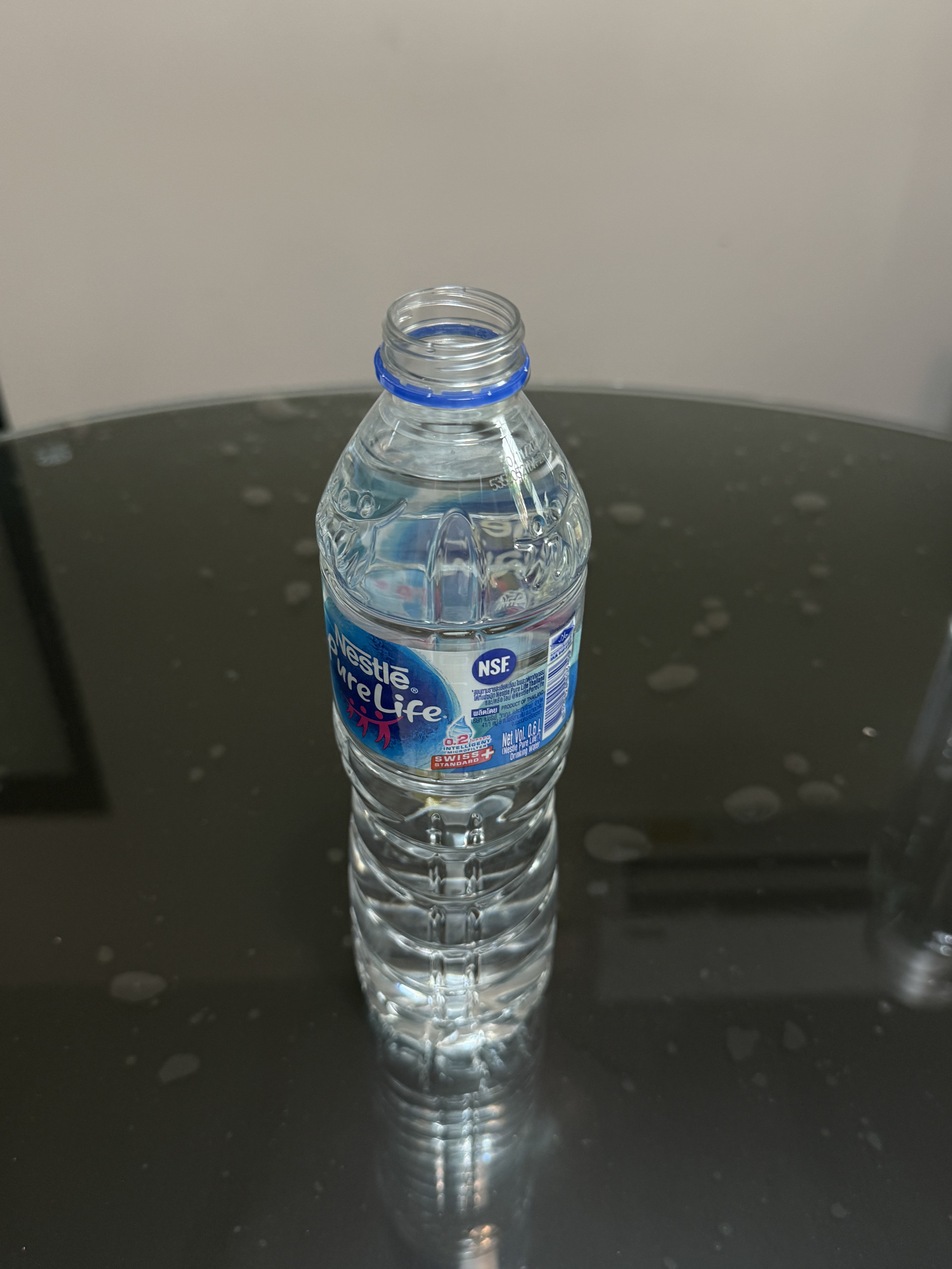no_cap: (368, 281, 536, 412)
